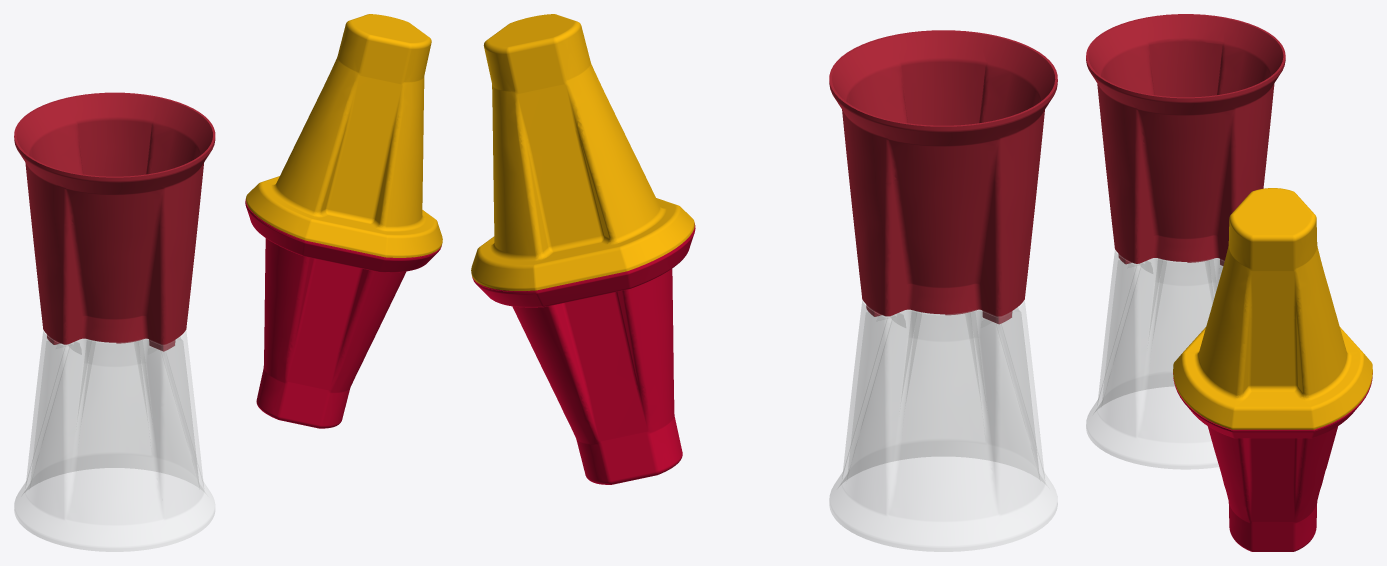
Rendered from hero-pieces.glb.
3 renders of one model, left to right at view 1: azimuth 30°, elevation 25°; view 2: azimuth 150°, elevation 25°; view 3: azimuth 270°, elevation 25°, orthographic. The views are drawn at different scales.
Parts seen in each view (by area): view 1: cup-half-0, cup-half-1, pin-half-0, pin-half-1; view 2: cup-half-0, cup-half-1, pin-half-0, pin-half-1; view 3: cup-half-0, pin-half-0, cup-half-1, pin-half-1.
Part boxes in pixels (bbox=[...]): cup-half-0: bbox=[14, 92, 215, 351]; cup-half-1: bbox=[14, 330, 214, 551]; pin-half-0: bbox=[246, 14, 442, 257]; pin-half-1: bbox=[245, 199, 441, 428]; cup-half-0: bbox=[829, 30, 1057, 324]; cup-half-1: bbox=[829, 300, 1057, 551]; pin-half-0: bbox=[471, 14, 694, 290]; pin-half-1: bbox=[472, 223, 695, 484]; cup-half-0: bbox=[1086, 14, 1285, 265]; pin-half-0: bbox=[1173, 188, 1372, 429]; cup-half-1: bbox=[1086, 250, 1224, 469]; pin-half-1: bbox=[1173, 373, 1372, 551].
Size of the model in its own units: 0.2014 by 0.167 by 0.1152.
